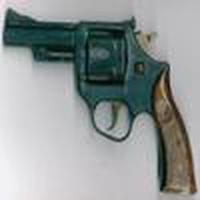gun: (3, 8, 198, 200)
